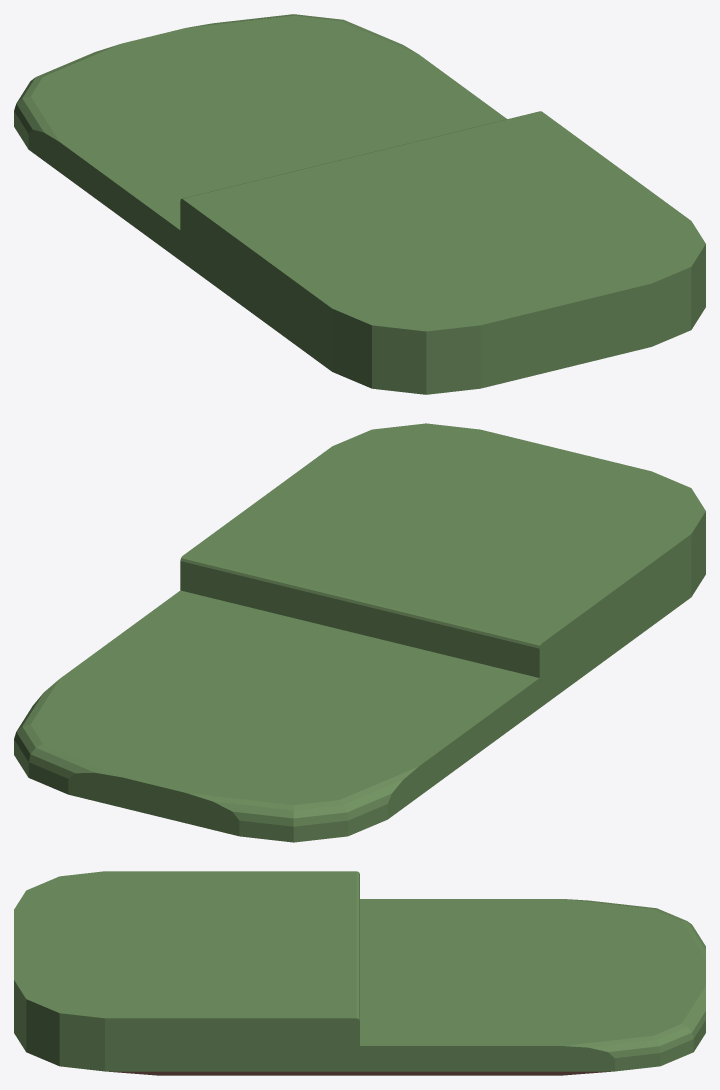
The model's file is Ledge.fbx.
The picture shows the model from 3 angles, top to bottom: view 1: azimuth 30°, elevation 25°; view 2: azimuth 150°, elevation 25°; view 3: azimuth 270°, elevation 25°; orthographic projection. The views are drawn at different scales.
Visible parts, largest first — view 1: Cube.005; view 2: Cube.005; view 3: Cube.005.
Part boxes in pixels (bbox=[...]): Cube.005: bbox=[14, 14, 705, 394]; Cube.005: bbox=[14, 423, 705, 842]; Cube.005: bbox=[14, 871, 705, 1075].
Size of the model in its own units: 1371 by 2725 by 319.
